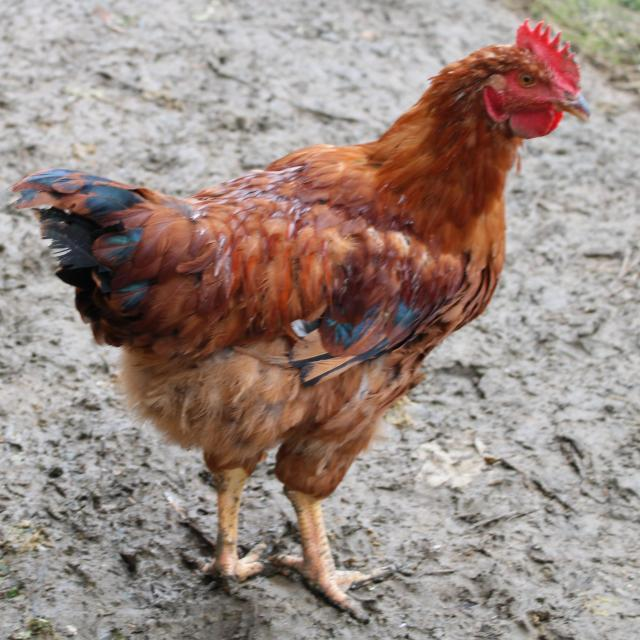cook: (13, 22, 590, 621)
